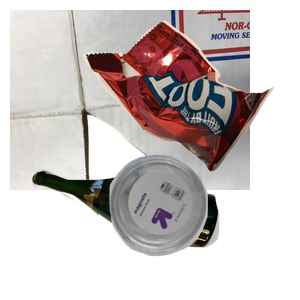cardboard: (10, 10, 250, 190)
glass: (29, 167, 241, 300)
plastic: (107, 152, 300, 300)
trash: (81, 18, 300, 182)
